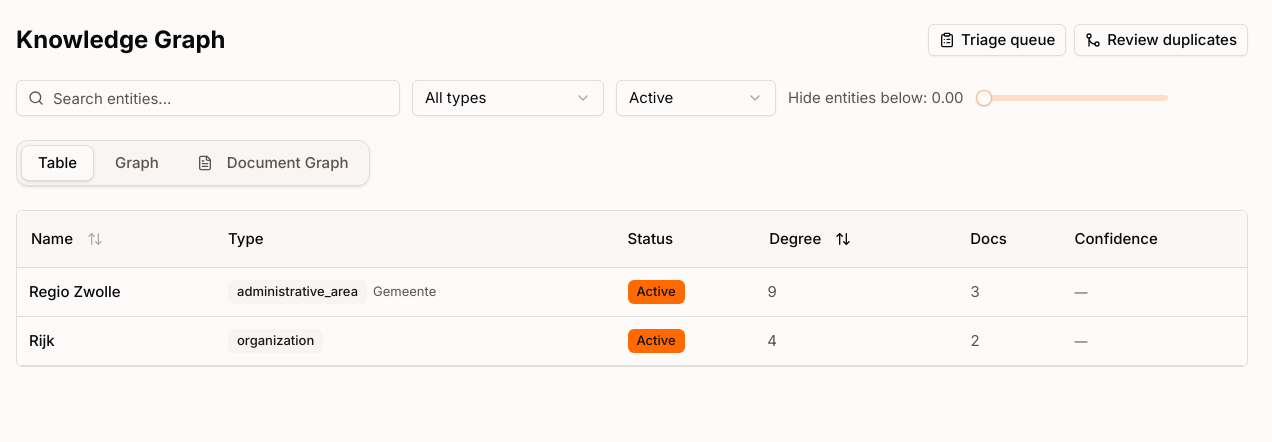
Knowledge Graph by width (WB.5) › from lg the details are a side panel, not a modal
Click the row with test id "entity-row-entity:a" at (632, 292), box [17,268,1247,316]
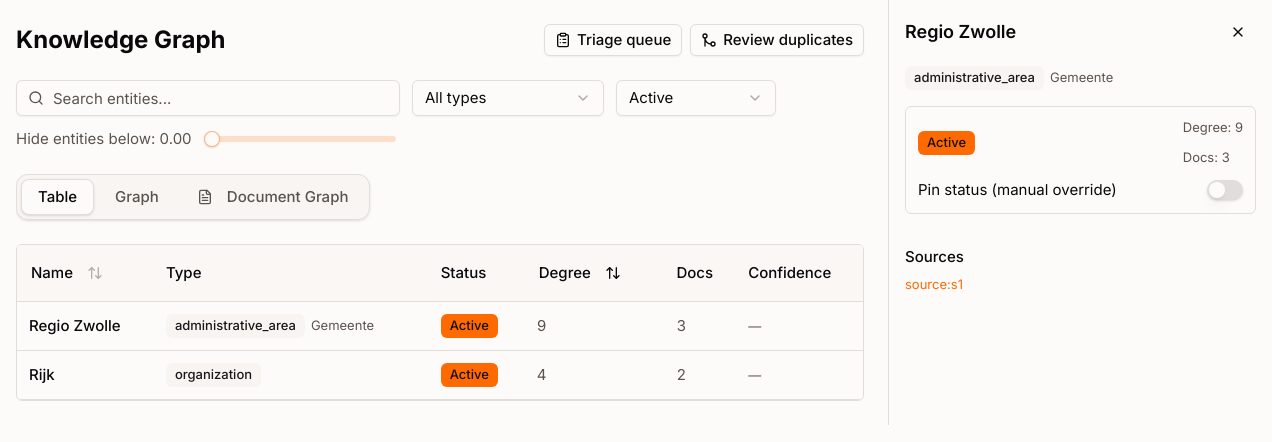
Check: the heading "Regio Zwolle" is shown, box [905,18,1016,46]
Click the button named "Close details" at (1238, 32), box [1220,16,1256,48]
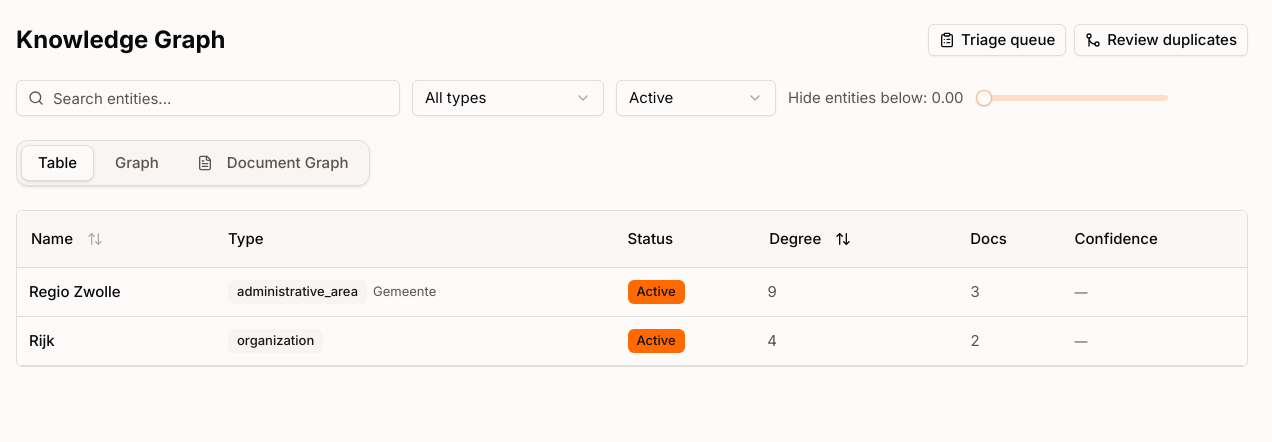
Check: the element with test id "entity-detail-panel" is gone
